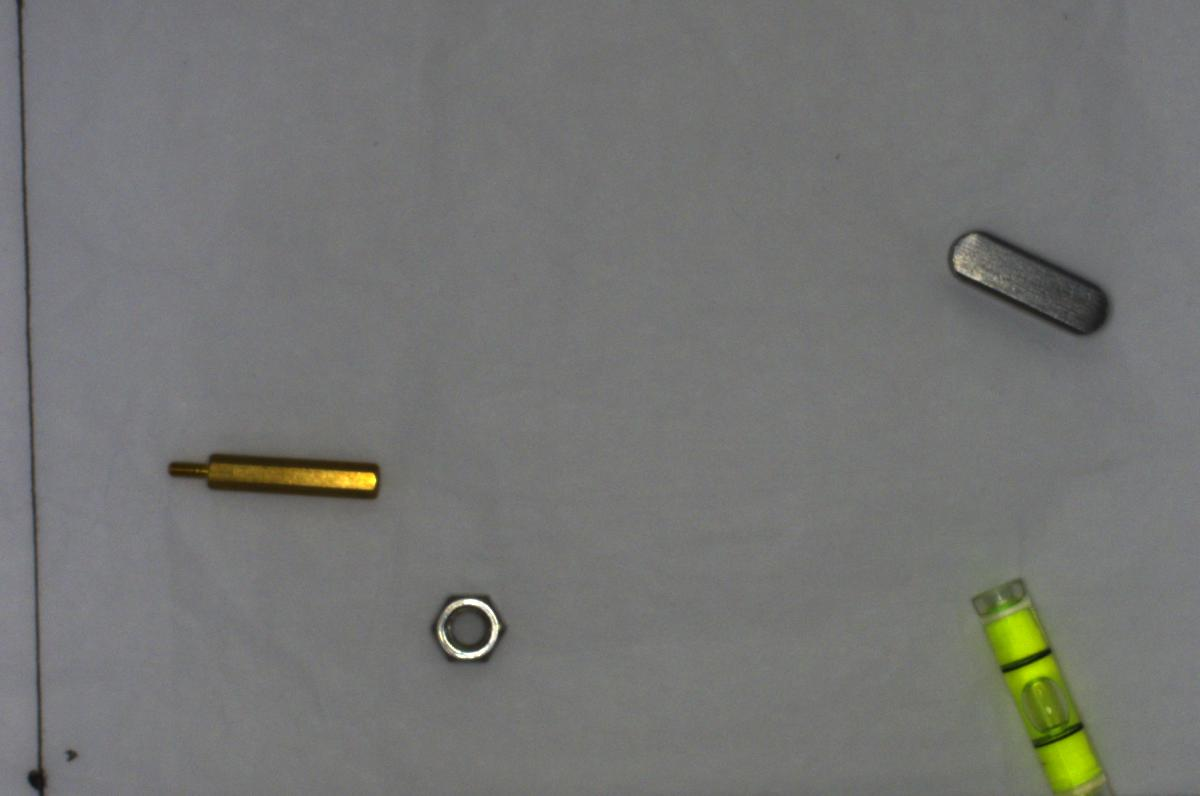Hexagon nut: (425, 587, 508, 668)
Hexagon pillar: (160, 439, 387, 505)
Horizontal bubble: (960, 569, 1121, 795)
Keybar: (935, 210, 1115, 347)
